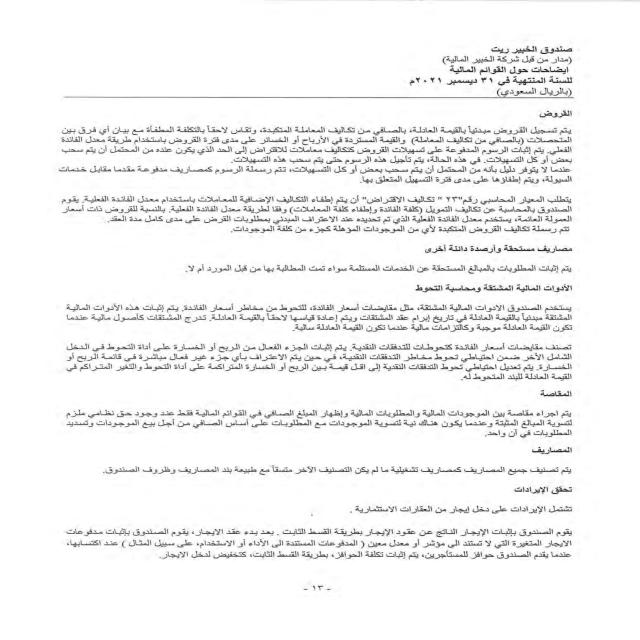notes: (445, 66, 591, 74)
text: (31, 103, 581, 570)
